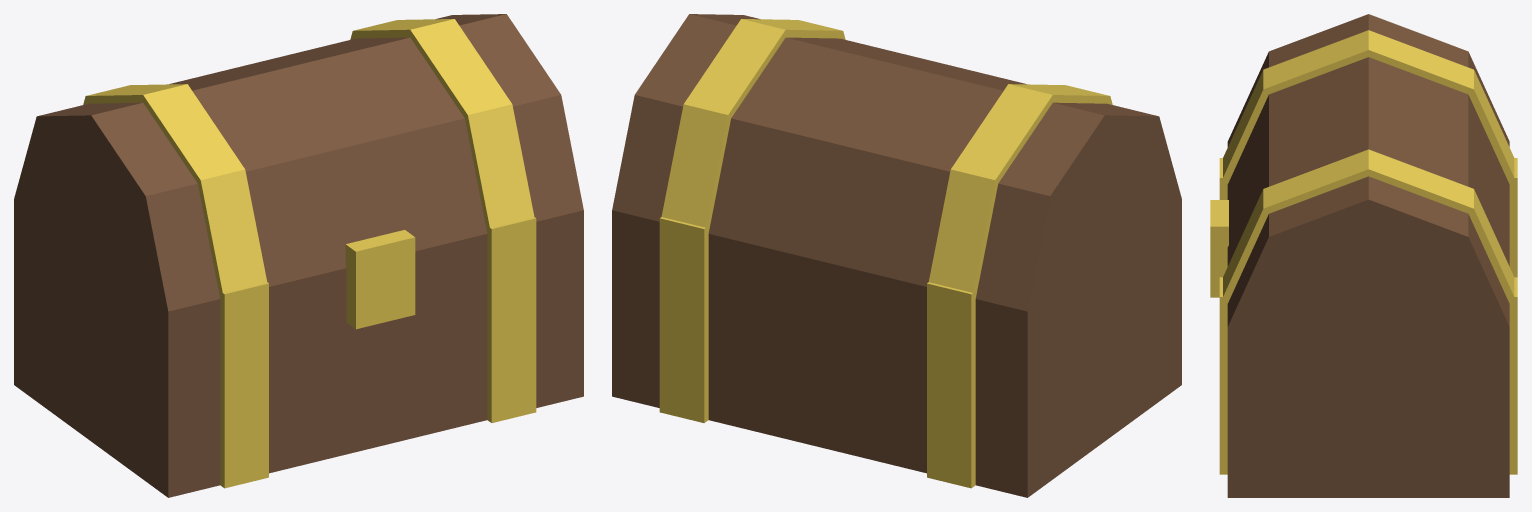
The model's file is std_chest.glb.
3 views of the same model, side by side, from view 1: azimuth 30°, elevation 25°; view 2: azimuth 150°, elevation 25°; view 3: azimuth 270°, elevation 25° (orthographic). The views are drawn at different scales.
Parts seen in each view (by area): view 1: std_chest; view 2: std_chest; view 3: std_chest.
Part boxes in pixels (x1,y1,x2,y2): std_chest: (14, 14, 583, 497); std_chest: (612, 14, 1181, 497); std_chest: (1210, 14, 1517, 497).
Size of the model in its own units: 0.28 by 0.215 by 0.196.
